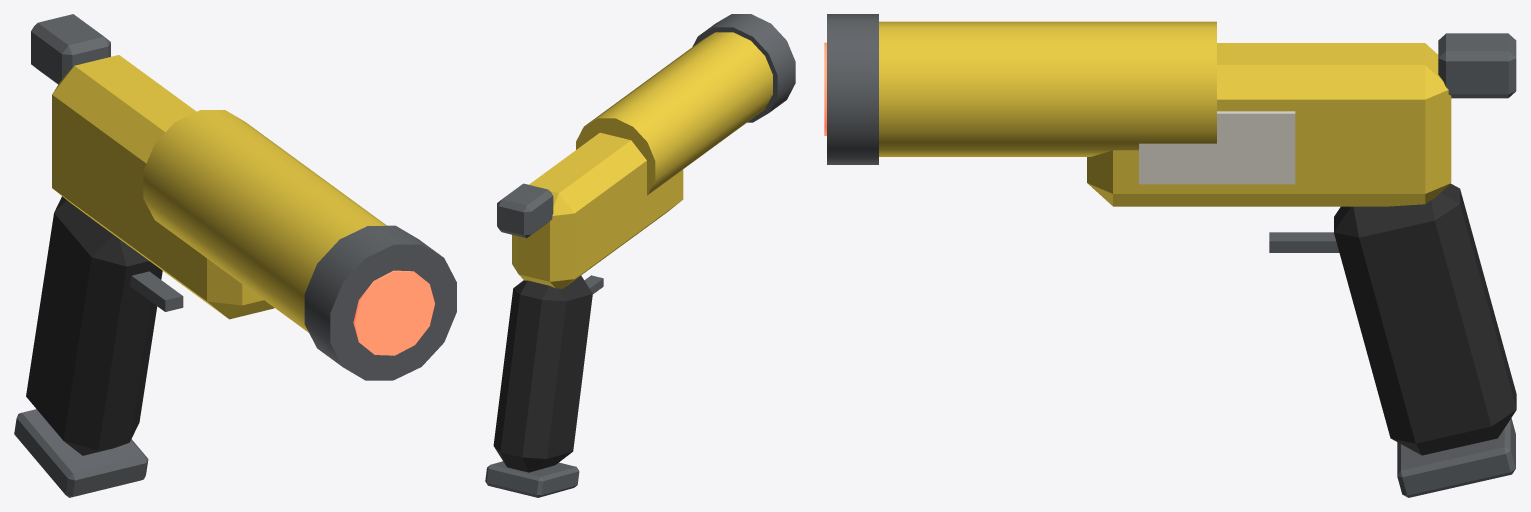
File: weapon_flare_gun.glb
The picture shows the model from 3 angles, left to right: view 1: azimuth 30°, elevation 25°; view 2: azimuth 150°, elevation 25°; view 3: azimuth 270°, elevation 25°; orthographic projection. The views are drawn at different scales.
Parts seen in each view (by area): view 1: weapon_flare_gun; view 2: weapon_flare_gun; view 3: weapon_flare_gun.
Boxes of the visible parts, x1,y1,x2,y2 form: weapon_flare_gun: (14,14,456,497); weapon_flare_gun: (485,14,795,497); weapon_flare_gun: (824,14,1516,497).
Size of the model in its own units: 0.0565 by 0.1948 by 0.2661.
